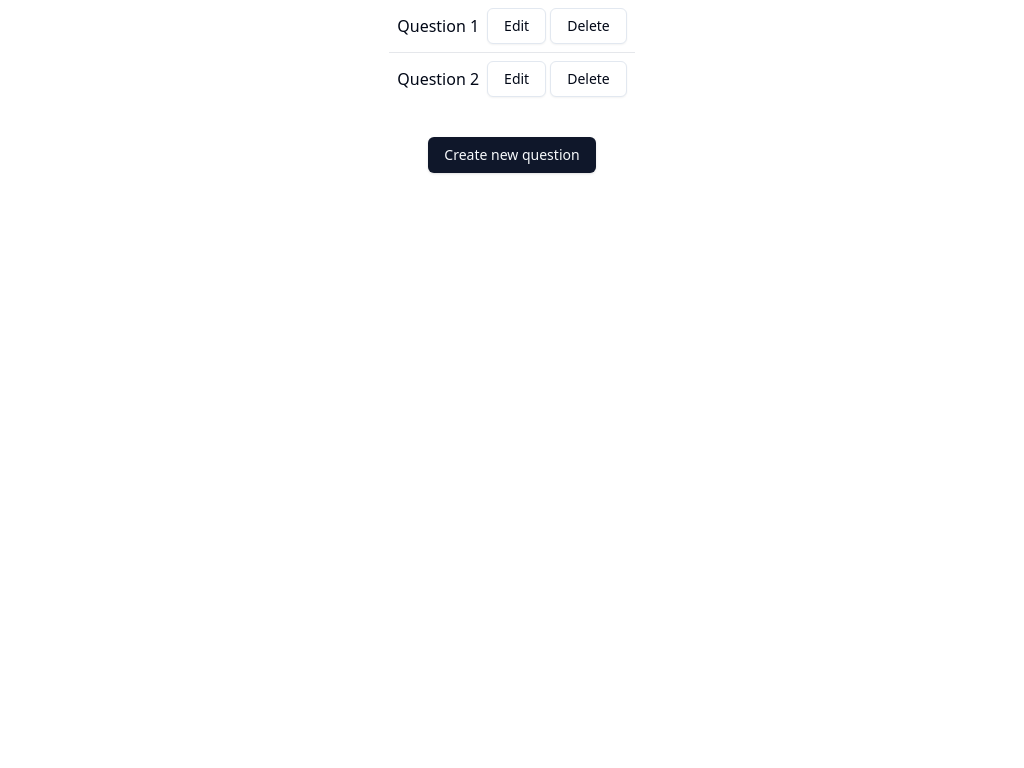
Test: Questions Component › opens upsert question modal on create new question button click
Click the button "Create new question": {"x": 512, "y": 155} [428,137,596,173]
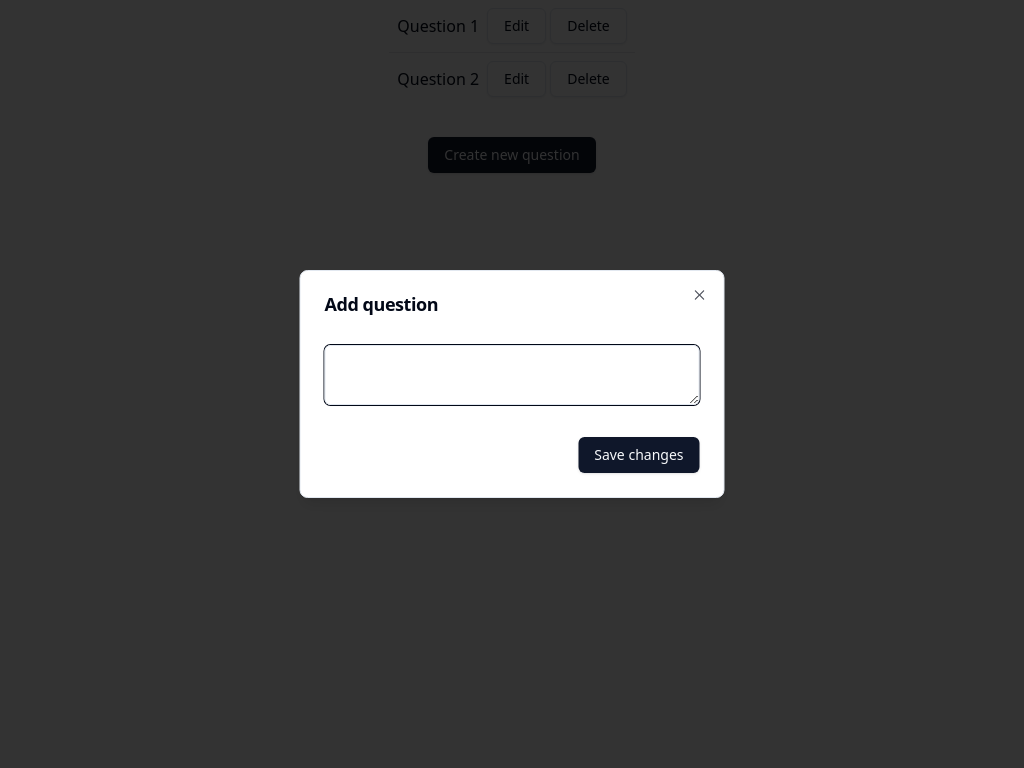
Expected: the heading "Add question" is shown, [324,292,438,316]
